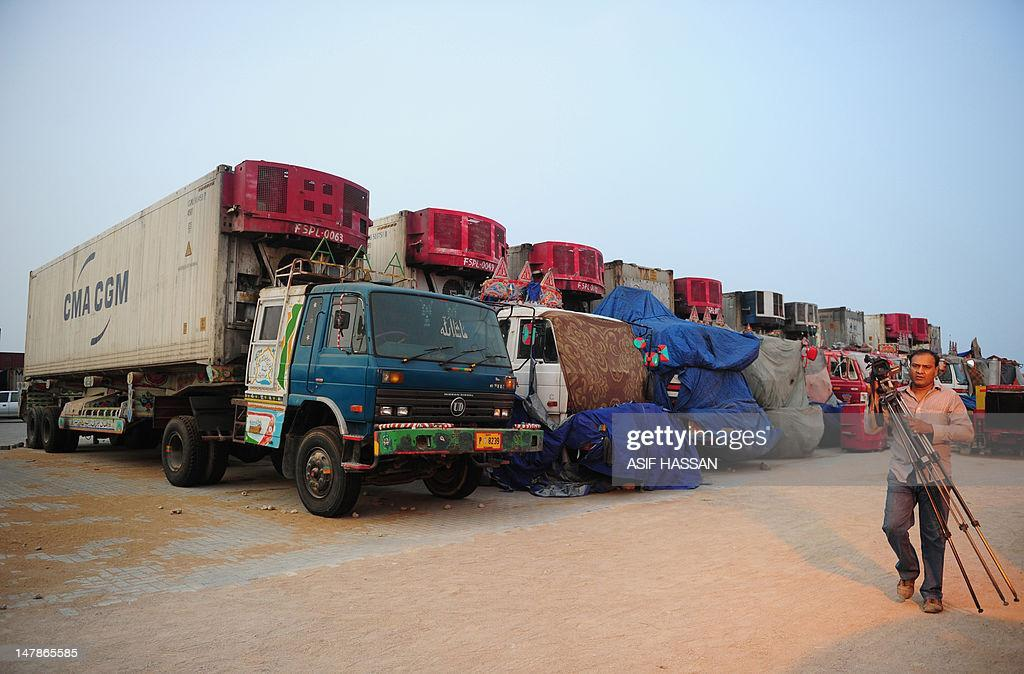truck: (22, 158, 515, 519), (370, 209, 648, 494)
